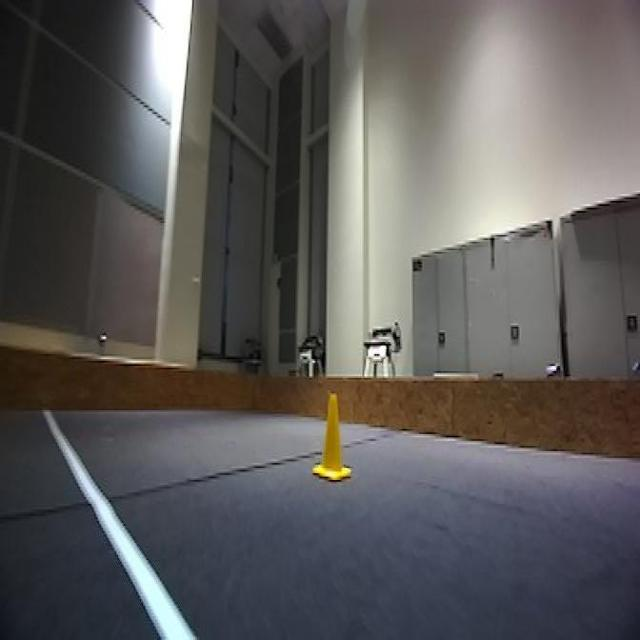frc_cone: (315, 392, 357, 484)
